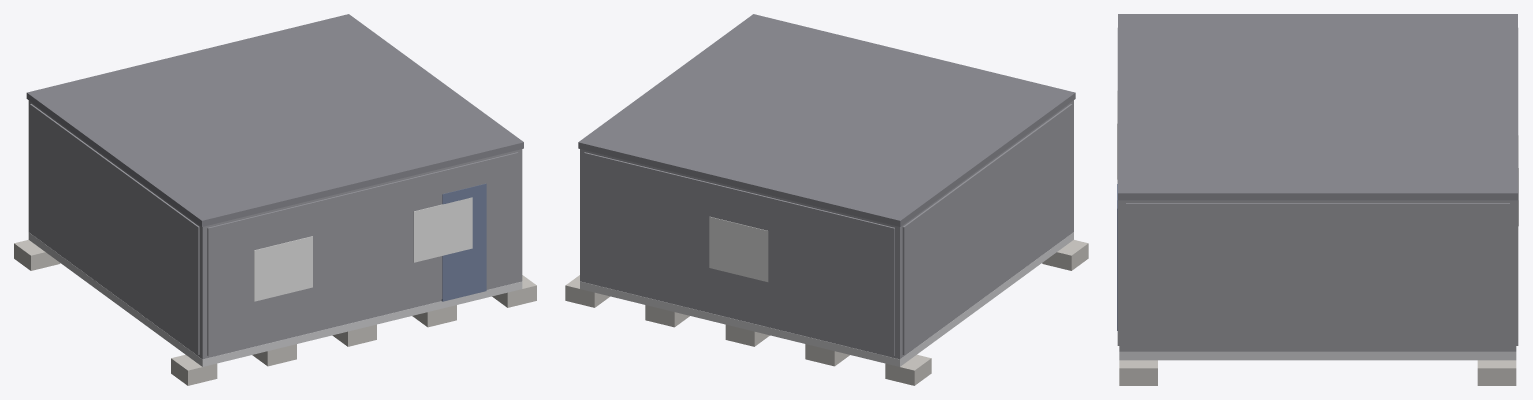
Rendered from Studio-20-Base-AncientWallGrey-LOD3.glb.
3 renders of one model, left to right at view 1: azimuth 30°, elevation 25°; view 2: azimuth 150°, elevation 25°; view 3: azimuth 270°, elevation 25°, orthographic. The views are drawn at different scales.
Visible parts, largest first — view 1: RoofMain, ExteriorPanelsStandard, WindowsStandard, FoundationBlocks, ExteriorShell, BaseFrame, EntryDoor; view 2: ExteriorPanelsStandard, RoofMain, FoundationBlocks, BaseFrame, ExteriorShell, WindowsStandard; view 3: RoofMain, ExteriorPanelsStandard, ExteriorShell, BaseFrame, FoundationBlocks.
Part boxes in pixels (x1,y1,x2,y2): RoofMain: (26, 14, 523, 226); ExteriorPanelsStandard: (30, 104, 518, 355); WindowsStandard: (254, 197, 472, 301); FoundationBlocks: (14, 240, 536, 385); ExteriorShell: (28, 100, 522, 359); BaseFrame: (28, 232, 522, 366); EntryDoor: (441, 183, 486, 301); ExteriorPanelsStandard: (584, 104, 1072, 355); RoofMain: (578, 14, 1075, 226); FoundationBlocks: (565, 240, 1088, 385); BaseFrame: (580, 232, 1073, 366); ExteriorShell: (580, 100, 1073, 359); WindowsStandard: (709, 216, 768, 281); RoofMain: (1118, 14, 1517, 200); ExteriorPanelsStandard: (1117, 28, 1518, 349); ExteriorShell: (1119, 200, 1516, 351); BaseFrame: (1119, 351, 1516, 360); FoundationBlocks: (1119, 360, 1516, 385).
Bounding box in the file's own units: 7.14 × 3.17 × 6.24.
